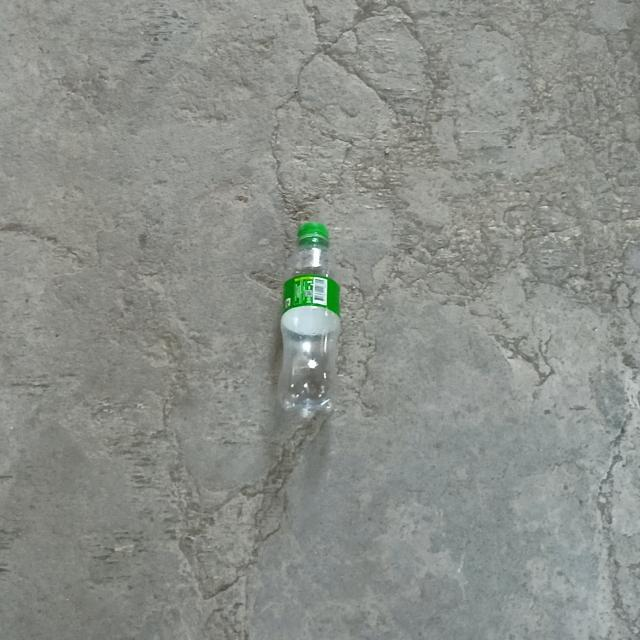Bottle: (278, 223, 340, 417)
